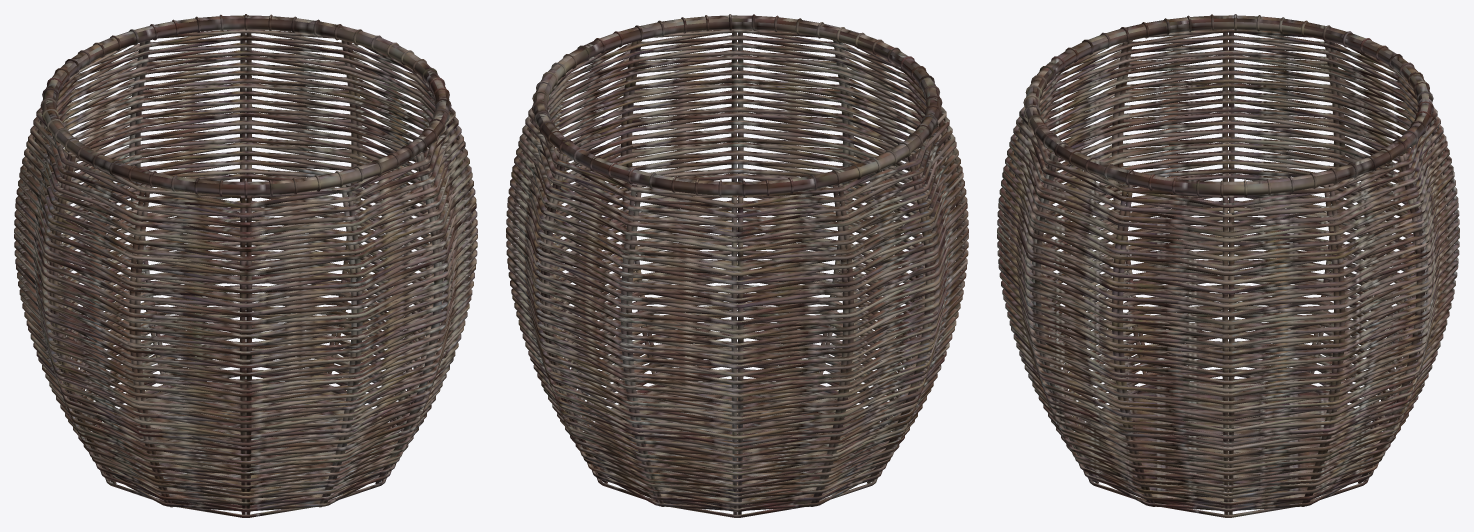
Rendered from lanzi.FBX.
3 views of the same model, side by side, from view 1: azimuth 30°, elevation 25°; view 2: azimuth 150°, elevation 25°; view 3: azimuth 270°, elevation 25° (orthographic).
Visible parts, largest first — view 1: lanzi; view 2: lanzi; view 3: lanzi.
Boxes of the visible parts, <box> form: lanzi: <box>14,14,477,517</box>; lanzi: <box>506,14,968,517</box>; lanzi: <box>997,14,1459,517</box>.
Bounding box in the file's own units: 8.21 × 6.92 × 8.21.
